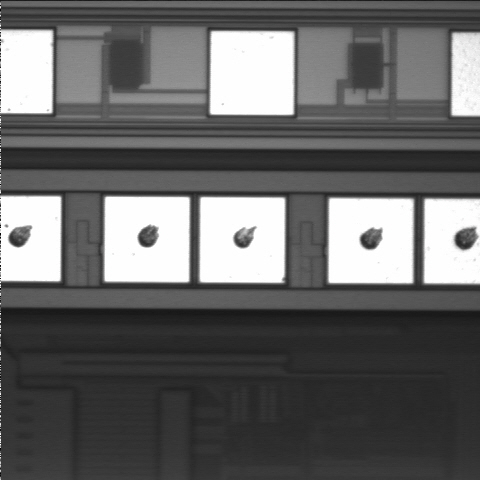pad: (200, 197, 285, 283), (105, 197, 190, 282), (329, 198, 413, 283), (210, 31, 294, 115)
